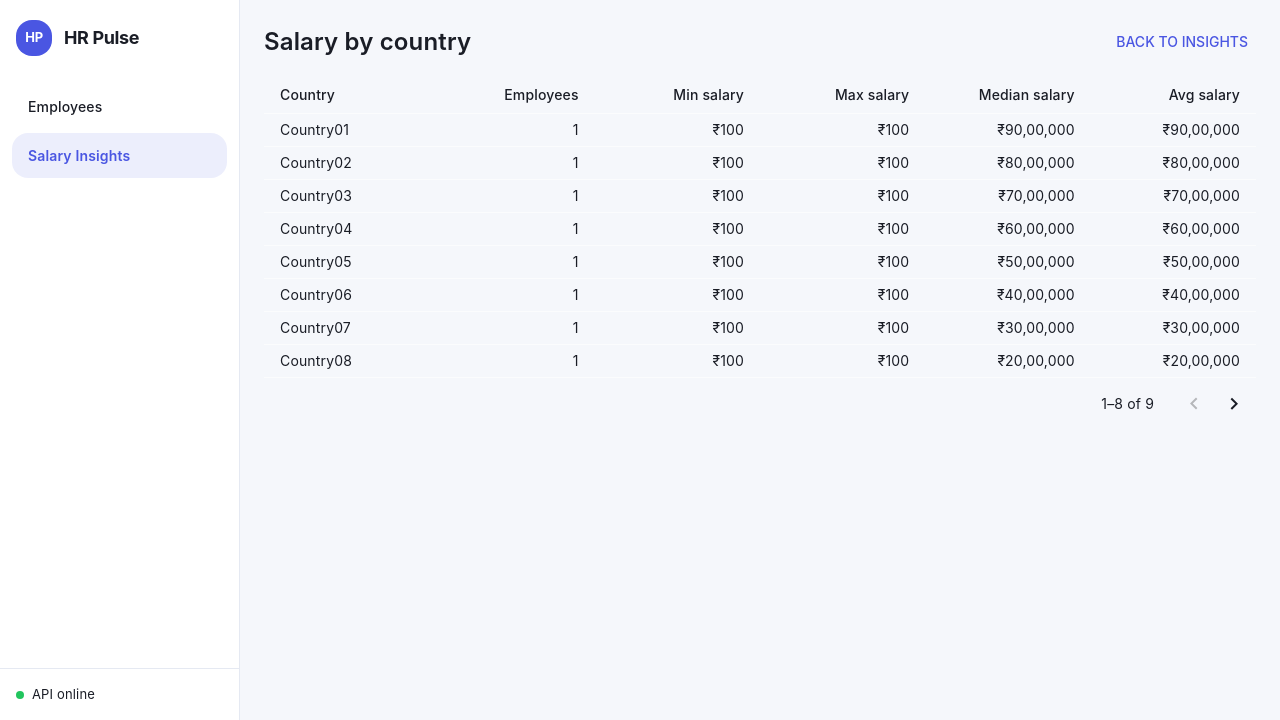
InsightsCountriesPage › navigates to chart view when Back to insights is clicked
Expected: the heading "Salary by country" is shown, left=264, top=26, right=471, bottom=58
Expected: the navigation bar named "salary by country pagination" is shown, left=1101, top=384, right=1254, bottom=424
Click the button "Back to insights" at (1182, 42), box left=1108, top=24, right=1256, bottom=60
(page scrolled)
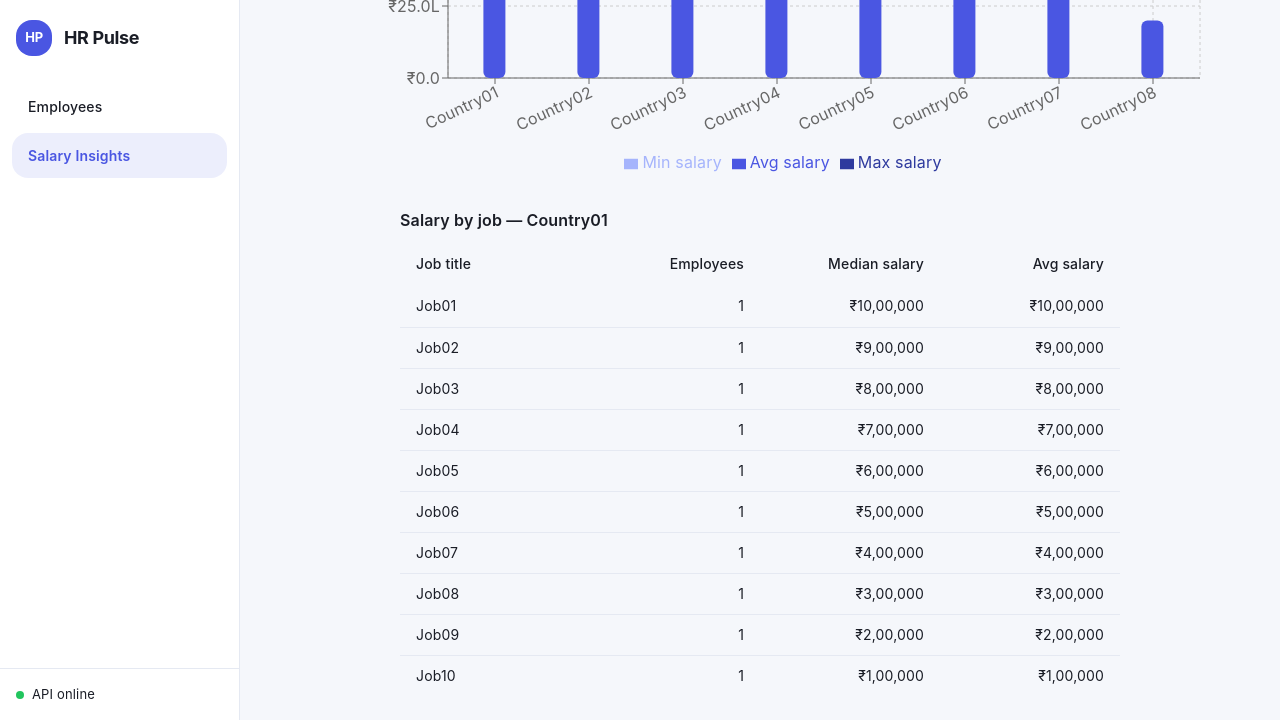
Now the table named "salary by job in country01" is shown, box left=400, top=242, right=1120, bottom=696
Now the heading "Salary by country" is gone
